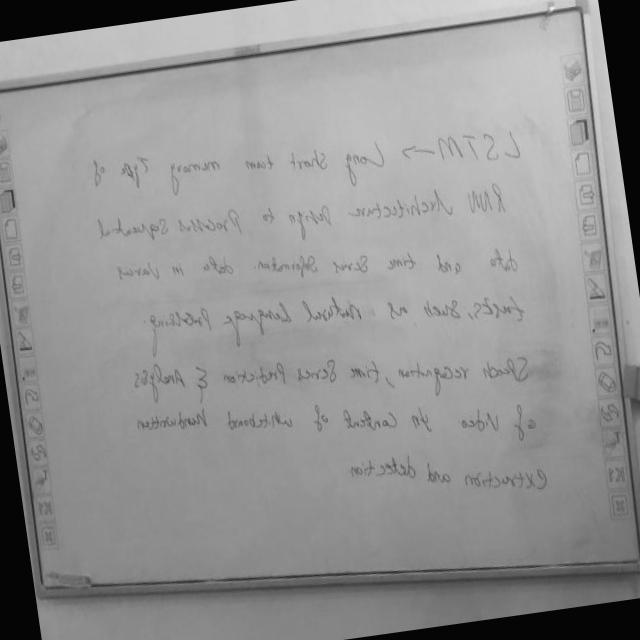White-board: (0, 7, 640, 593)
